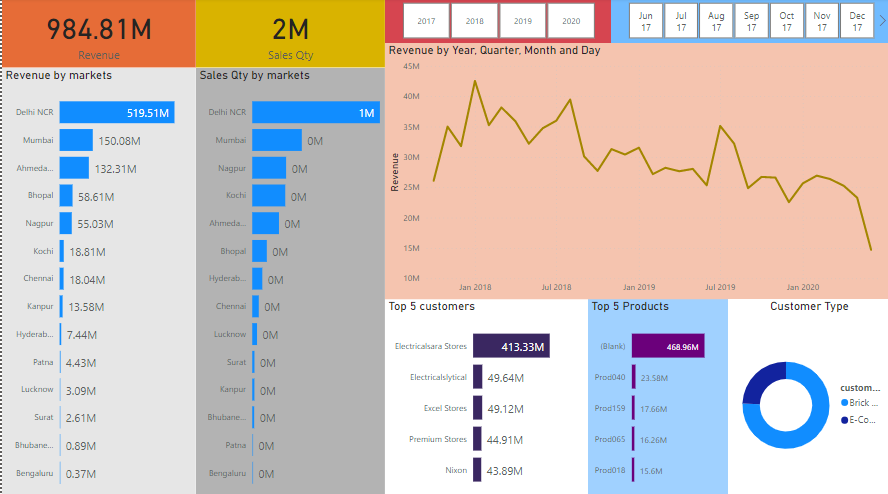

Layout of this report page (visuals, bound fields, positions):
{"tool":"powerbi","page":{"name":"Sales_insight","canvas":[1280,720],"ordinal":0},"visuals":[{"type":"card","fields":{"Values":["BaseMeasures.Revenue"]},"box":[0,0,279.3,100.4],"z":0},{"type":"card","fields":{"Values":["BaseMeasures.Sales Qty"]},"box":[279.3,0,272,100.4],"z":1000},{"type":"barChart","title":"Revenue by markets","fields":{"Y":["BaseMeasures.Revenue"],"Category":["sales markets.markets_name"]},"box":[0,100.4,279.3,619.6],"z":2000},{"type":"barChart","title":"Sales Qty by markets","fields":{"Y":["BaseMeasures.Sales Qty"],"Category":["sales markets.markets_name"]},"box":[279.3,100.4,272,619.6],"z":3000},{"type":"slicer","fields":{"Values":["sales date.year"]},"box":[551.3,0,325.8,65.5],"z":4000},{"type":"slicer","fields":{"Values":["sales date.cy_date"]},"box":[877.1,0,402.9,65.5],"z":5000},{"type":"barChart","title":"Top 5 customers","fields":{"Y":["BaseMeasures.Revenue"],"Category":["sales customers.custmer_name"]},"box":[551.5,433.4,292.3,286.6],"z":6000},{"type":"barChart","title":"Top 5 Products","fields":{"Y":["BaseMeasures.Revenue"],"Category":["sales products.product_code"]},"box":[843.8,433.4,201.6,286.6],"z":7000},{"type":"lineChart","fields":{"Y":["BaseMeasures.Revenue"],"Category":["sales date.cy_date.Variation.Date Hierarchy.Year","sales date.cy_date.Variation.Date Hierarchy.Quarter","sales date.cy_date.Variation.Date Hierarchy.Month","sales date.cy_date.Variation.Date Hierarchy.Day"]},"box":[551.5,64.8,728.6,368.6],"z":8000},{"type":"donutChart","title":"Customer Type","fields":{"Category":["sales customers.customer_type"],"Y":["BaseMeasures.Revenue"]},"box":[1045.4,433.4,234.7,286.6],"z":8001}]}

Visuals, with their boxes in screenshot pixels (x1, y1, x2, y2), scaled from the page's 1280x720 canvas onto the 888x494 screenshot:
card - BaseMeasures.Revenue: (0, 0, 194, 69)
card - BaseMeasures.Sales Qty: (194, 0, 382, 69)
"Revenue by markets" barChart: (0, 69, 194, 493)
"Sales Qty by markets" barChart: (194, 69, 382, 493)
slicer - sales date.year: (382, 0, 608, 45)
slicer - sales date.cy_date: (608, 0, 887, 45)
"Top 5 customers" barChart: (383, 297, 585, 493)
"Top 5 Products" barChart: (585, 297, 725, 493)
lineChart - BaseMeasures.Revenue x sales date.cy_date.Variation.Date Hierarchy.Year: (383, 44, 887, 297)
"Customer Type" donutChart: (725, 297, 887, 493)
